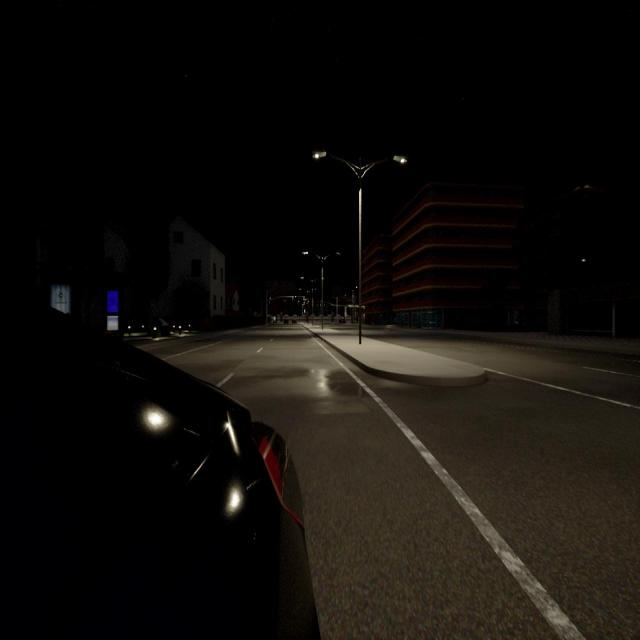Vehicle: (0, 311, 315, 637), (339, 319, 344, 323), (292, 319, 296, 324), (284, 320, 288, 324)
traffic_light: (292, 297, 294, 301), (303, 297, 305, 300)
